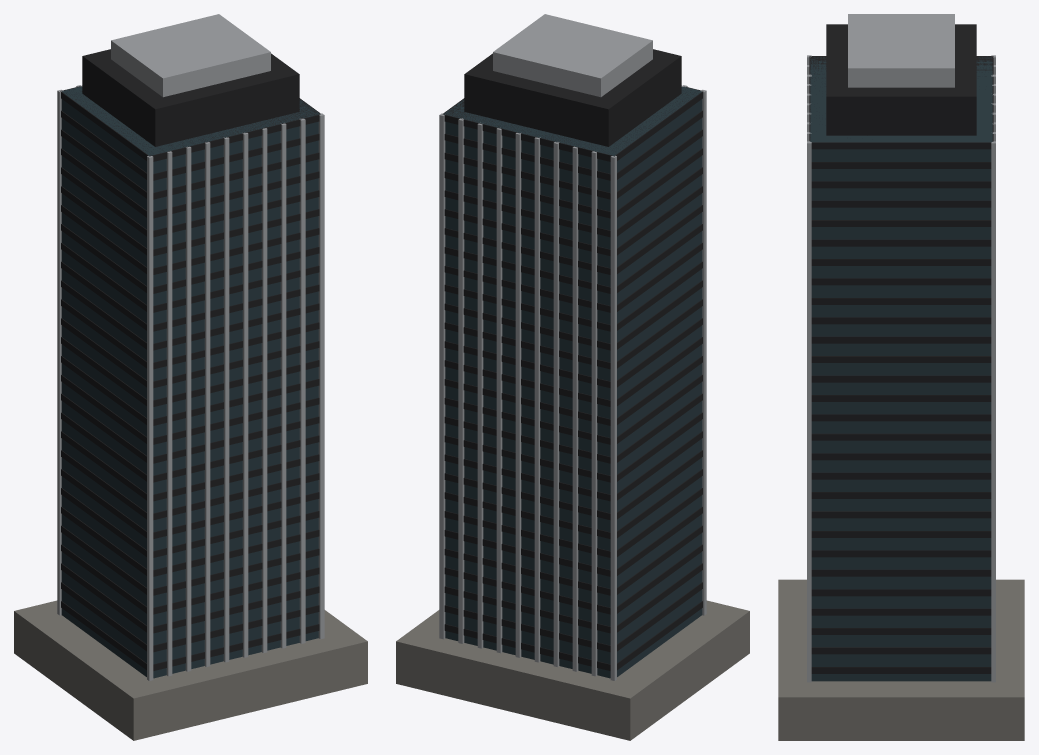
File: office_tower_generic_b.glb
3 views of the same model, side by side, from view 1: azimuth 30°, elevation 25°; view 2: azimuth 150°, elevation 25°; view 3: azimuth 270°, elevation 25° (orthographic). The views are drawn at different scales.
Parts seen in each view (by area): view 1: office_tower_generic_b; view 2: office_tower_generic_b; view 3: office_tower_generic_b.
Part boxes in pixels (bbox=[...]): office_tower_generic_b: bbox=[14, 14, 367, 740]; office_tower_generic_b: bbox=[396, 14, 749, 740]; office_tower_generic_b: bbox=[778, 14, 1024, 740].
Bounding box in the file's own units: 52 × 132 × 46.
